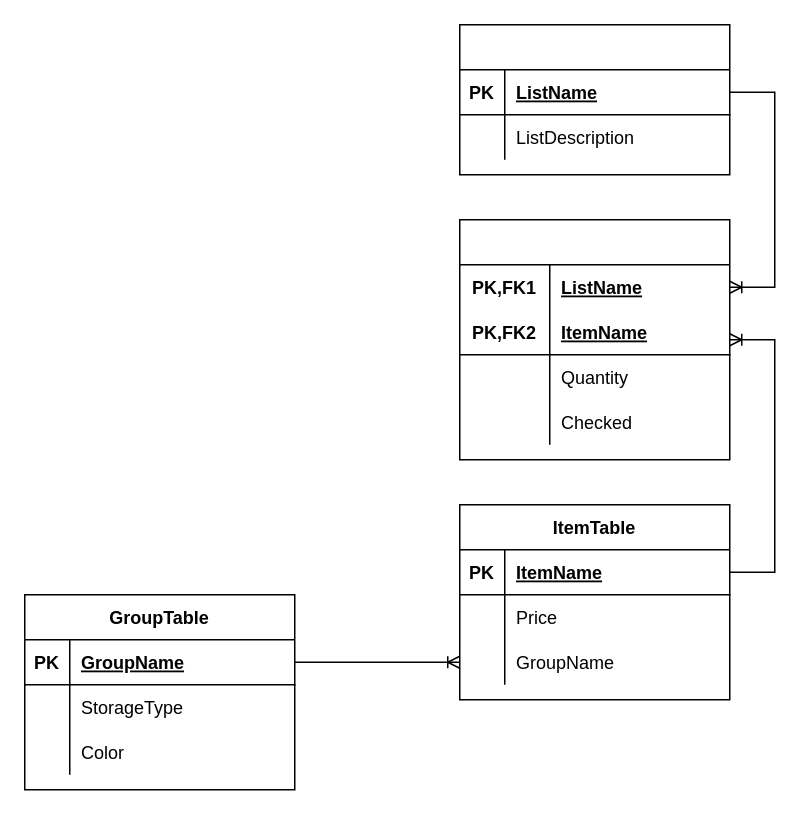
Some shapes in this 800 by 815 pixel diagram are drawn without their labels. The box of each missing label's shape, as (x1, y1, x2, y2) in pixels:
ListLink: (458, 218, 730, 460)
ListTable: (458, 23, 730, 175)
